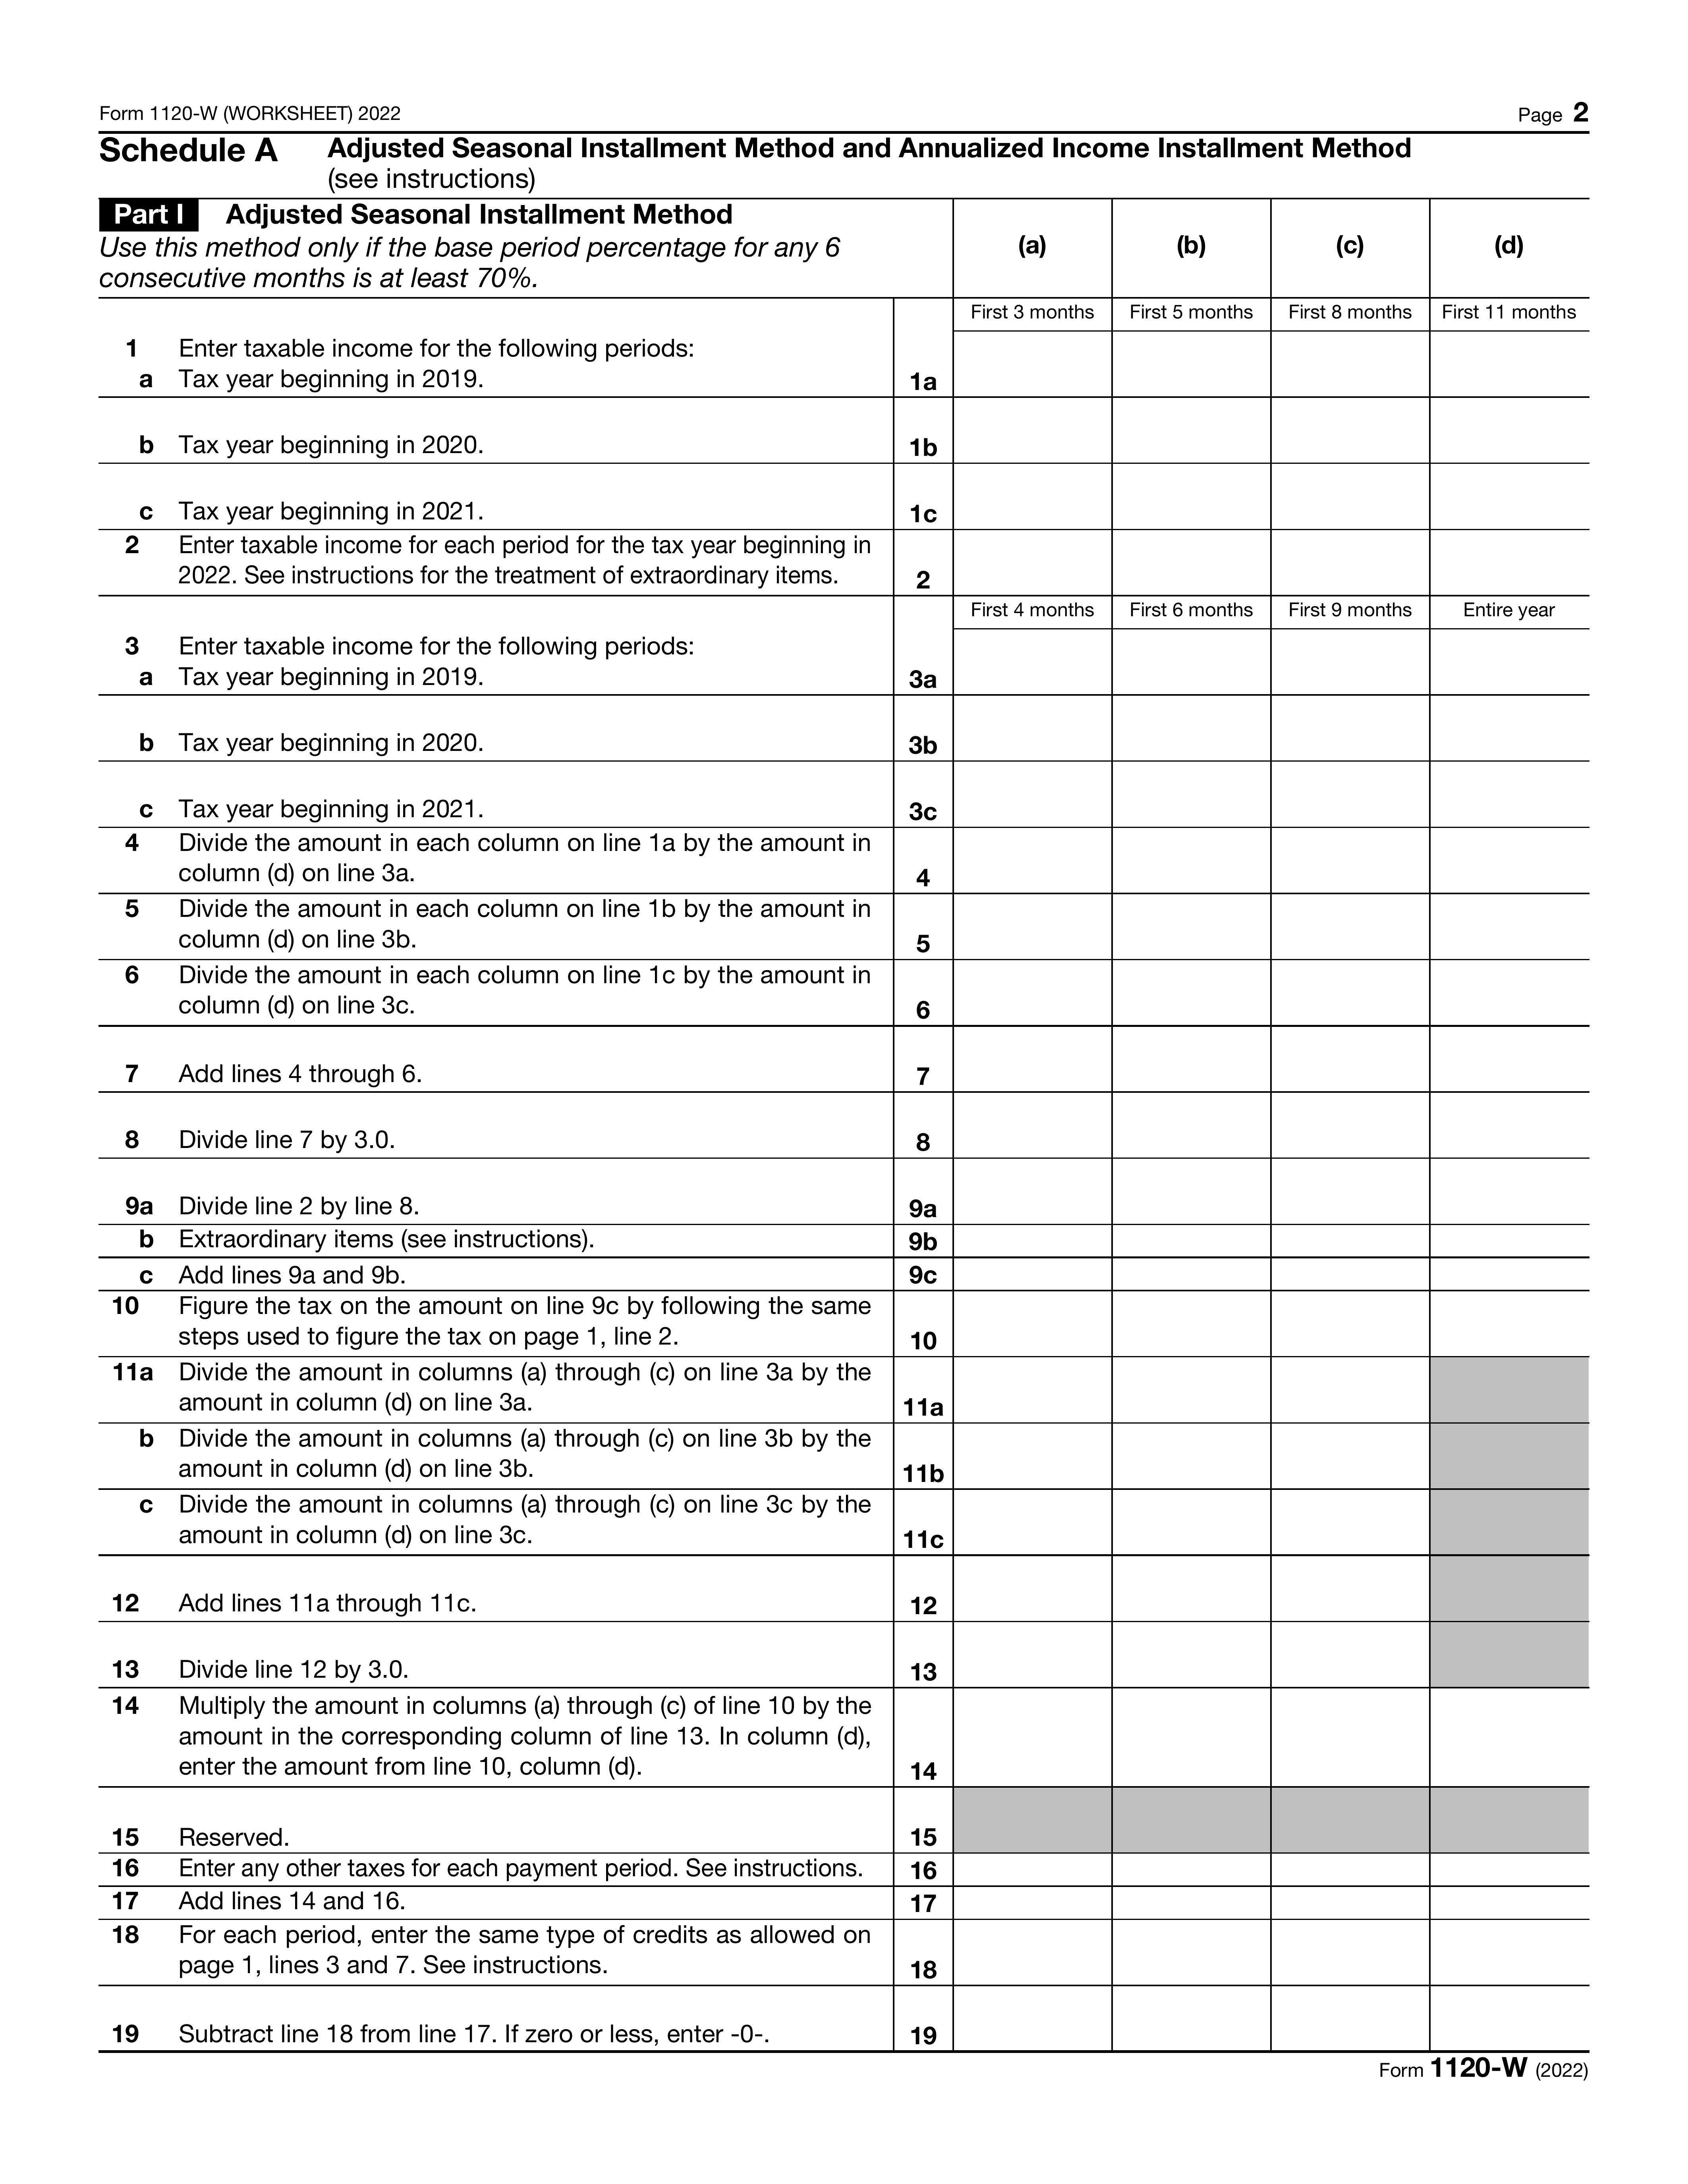table: (83, 197, 1612, 2056)
